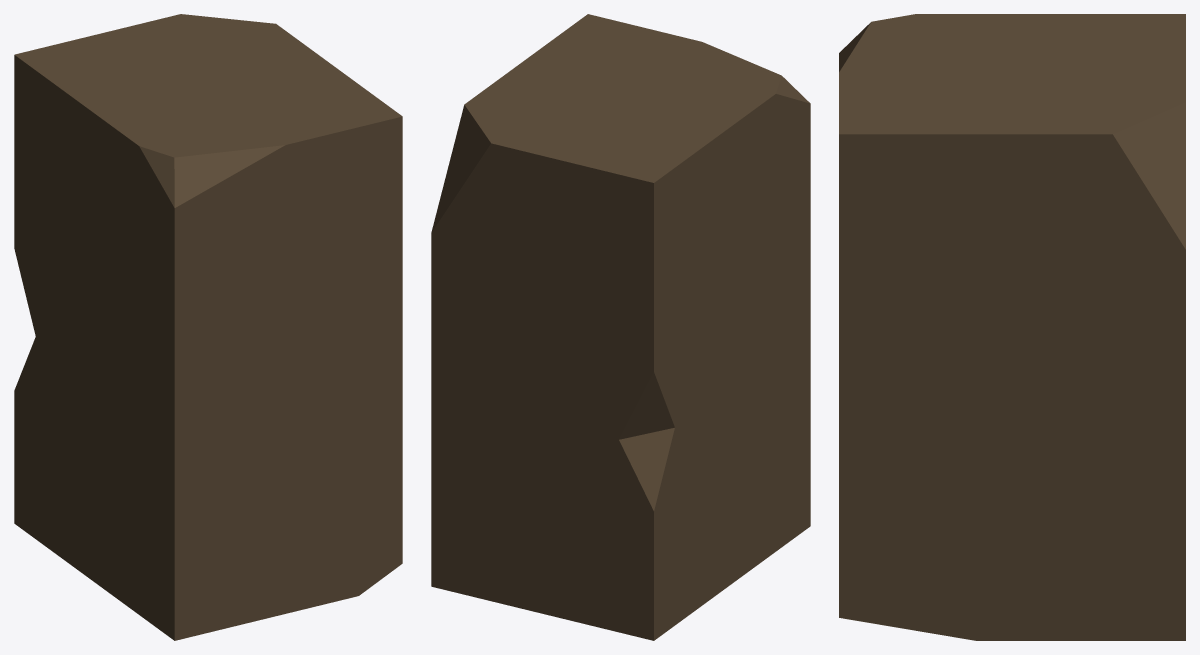
The picture shows the model from 3 angles, left to right: view 1: azimuth 30°, elevation 25°; view 2: azimuth 150°, elevation 25°; view 3: azimuth 270°, elevation 25°; orthographic projection. The views are drawn at different scales.
Parts seen in each view (by area): view 1: Box001; view 2: Box001; view 3: Box001.
Boxes of the visible parts, x1,y1,x2,y2 form: Box001: (14, 14, 402, 640); Box001: (431, 14, 810, 640); Box001: (839, 14, 1185, 640).
Size of the model in its own units: 3.97 by 7.81 by 4.85.
